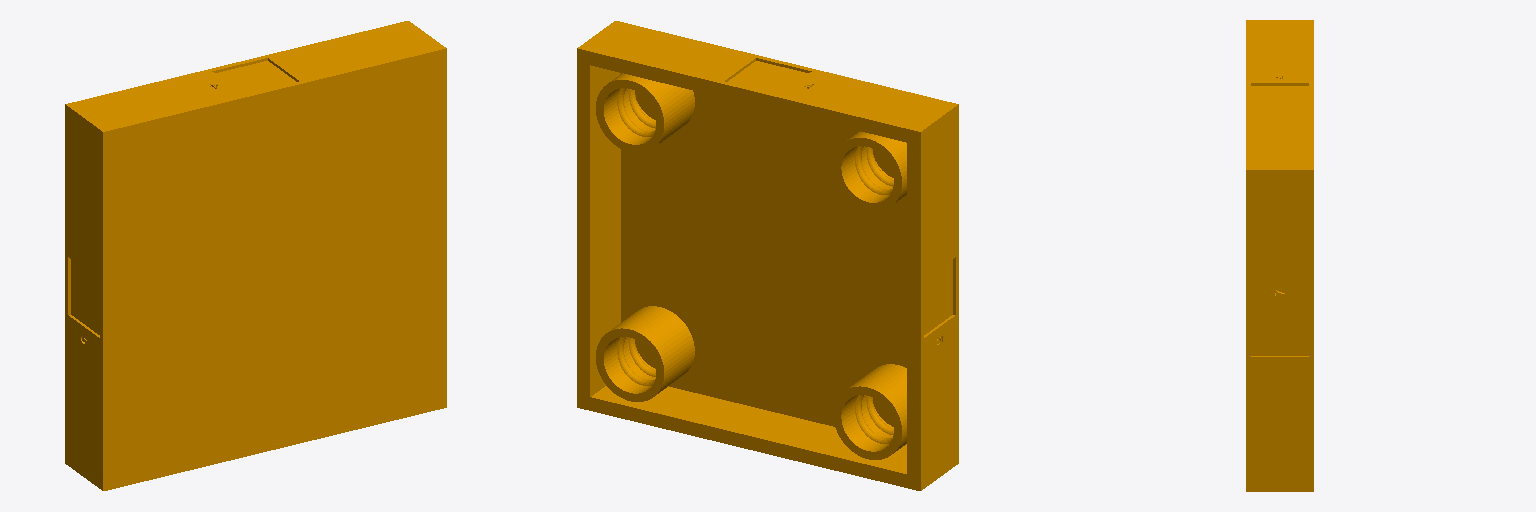
The robot description file, URDF, robot "square_top":
<?xml version="1.0"?>
<robot name="square_top">
    <link name="square_top">
        <visual>
            <geometry>
                <mesh filename="../mesh/square_table_top.obj" scale="1 1 1"/>
            </geometry>
        </visual>
        <collision>
            <geometry>
                <mesh filename="../mesh/square_table_top.obj" scale="1 1 1"/>
            </geometry>
            <!-- <sdf resolution="512"/> -->
            <sdf resolution="512"/>
        </collision>
        <!-- <inertial>
            <mass value="1."/>
            <inertia ixx="0.0001" ixy="0.0" ixz="0.0" iyy="0.0001" iyz="0.0" izz="0.0001"/>
        </inertial> -->
    </link>
</robot>

--- What the picture shows (computed from the rendered views, not written in the file) ---
3 views of the same robot in one strip: view 1: azimuth 30°, elevation 25°; view 2: azimuth 150°, elevation 25°; view 3: azimuth 270°, elevation 25° (orthographic).
Robot: square_top — 1 links, 0 joints (none); root link square_top; default pose: all joints at 0.
Links seen in each view (by area): view 1: square_top; view 2: square_top; view 3: square_top.
Boxes of the visible links, bbox=[...] form: square_top: bbox=[65, 21, 446, 490]; square_top: bbox=[577, 21, 958, 490]; square_top: bbox=[1246, 20, 1313, 491].
Bounding box of the posed robot: 0.1625 × 0.0312 × 0.1625 m (x, y, z).
1 mesh visuals loaded from 1 distinct referenced files (1 OBJ).
